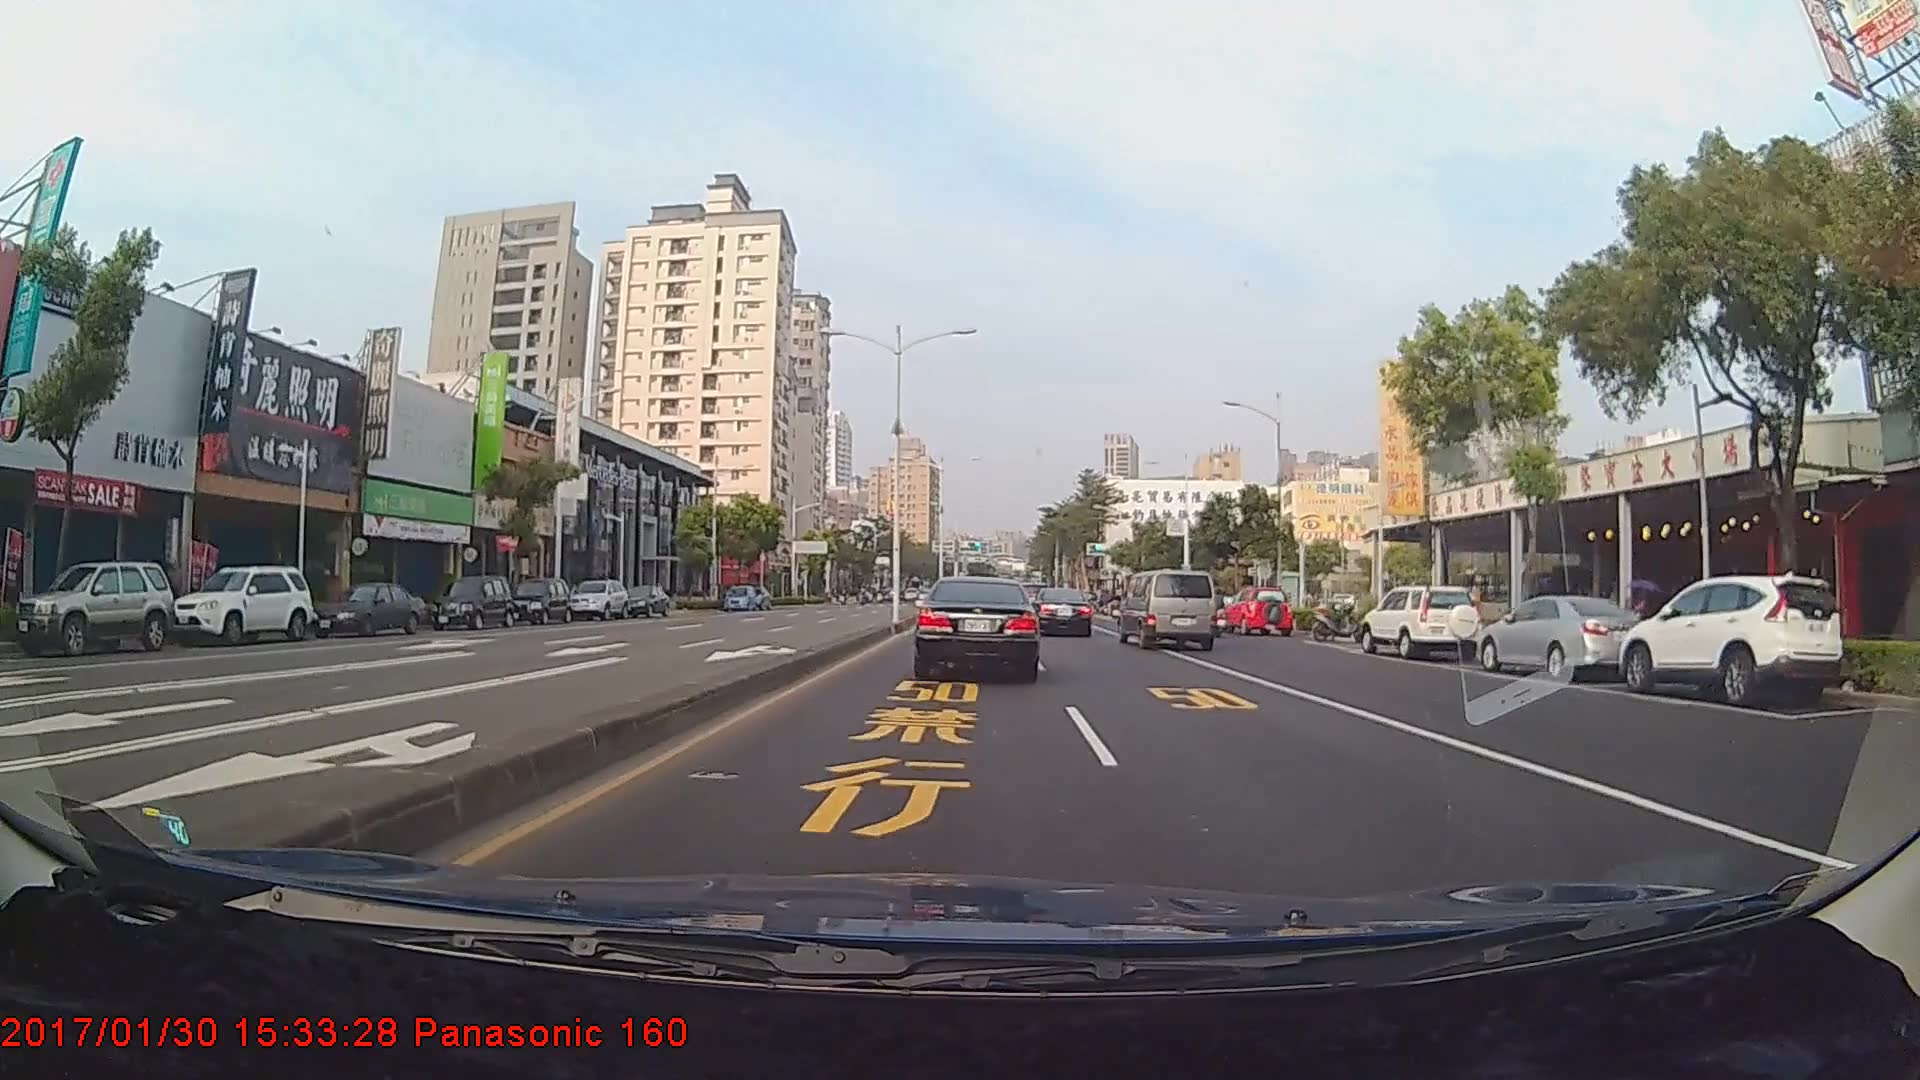vehicle: (1615, 568, 1844, 702), (1473, 589, 1648, 680), (11, 558, 174, 655), (913, 578, 1042, 682), (170, 563, 313, 644), (1360, 582, 1482, 658), (1118, 568, 1217, 651), (302, 578, 429, 638), (425, 572, 513, 626), (1217, 584, 1294, 636), (1029, 587, 1095, 638), (505, 576, 570, 626), (566, 578, 632, 622), (618, 583, 669, 616), (720, 583, 753, 611)
